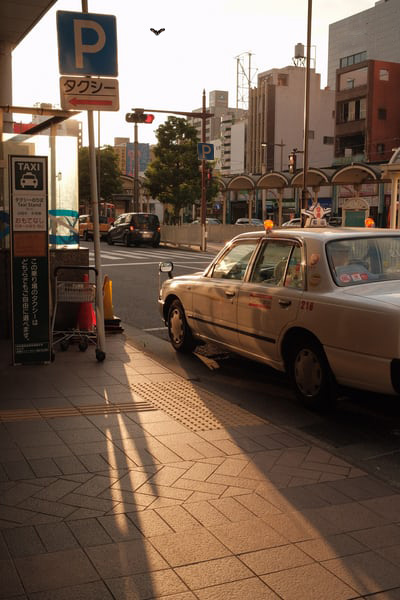copymove: (199, 141, 218, 158)
removal: (337, 23, 375, 39)
spliced: (151, 23, 171, 40)
